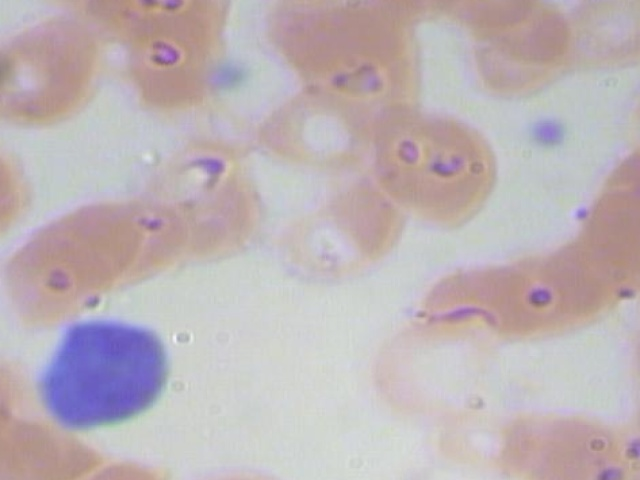Platelets: (522, 110, 570, 154), (207, 50, 255, 94)
RBC: (360, 104, 508, 240), (0, 0, 121, 134), (399, 238, 528, 352), (272, 184, 401, 298), (38, 189, 166, 293), (101, 175, 229, 279), (446, 0, 574, 103), (111, 16, 239, 119), (0, 230, 117, 334), (525, 225, 634, 336), (492, 235, 601, 346), (253, 85, 379, 175), (413, 403, 550, 476), (495, 414, 630, 480), (568, 193, 640, 304), (0, 400, 99, 480), (0, 28, 63, 118), (592, 137, 640, 248), (0, 121, 24, 256), (0, 342, 19, 445), (624, 320, 640, 429), (0, 400, 19, 480), (630, 66, 640, 175), (634, 265, 640, 374)
WBC: (36, 311, 198, 446)
